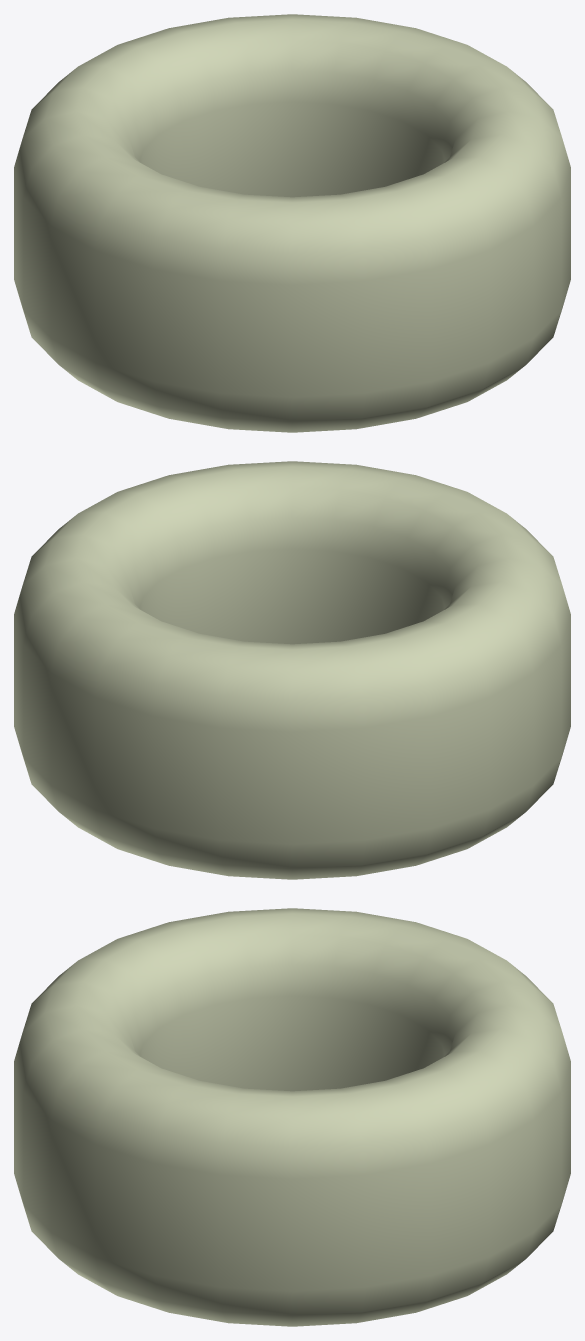
The model's file is delphini_us_fuel_tank_s2_1.obj.
The picture shows the model from 3 angles, top to bottom: view 1: azimuth 30°, elevation 25°; view 2: azimuth 150°, elevation 25°; view 3: azimuth 270°, elevation 25°; orthographic projection.
Parts seen in each view (by area): view 1: delphini_us_fuel_tank_s2_1; view 2: delphini_us_fuel_tank_s2_1; view 3: delphini_us_fuel_tank_s2_1.
Part boxes in pixels (box(x1,y1,x2,y2)): delphini_us_fuel_tank_s2_1: box(14, 14, 570, 432); delphini_us_fuel_tank_s2_1: box(14, 461, 570, 879); delphini_us_fuel_tank_s2_1: box(14, 908, 570, 1326).
Size of the model in its own units: 2.25 by 1 by 2.25.
